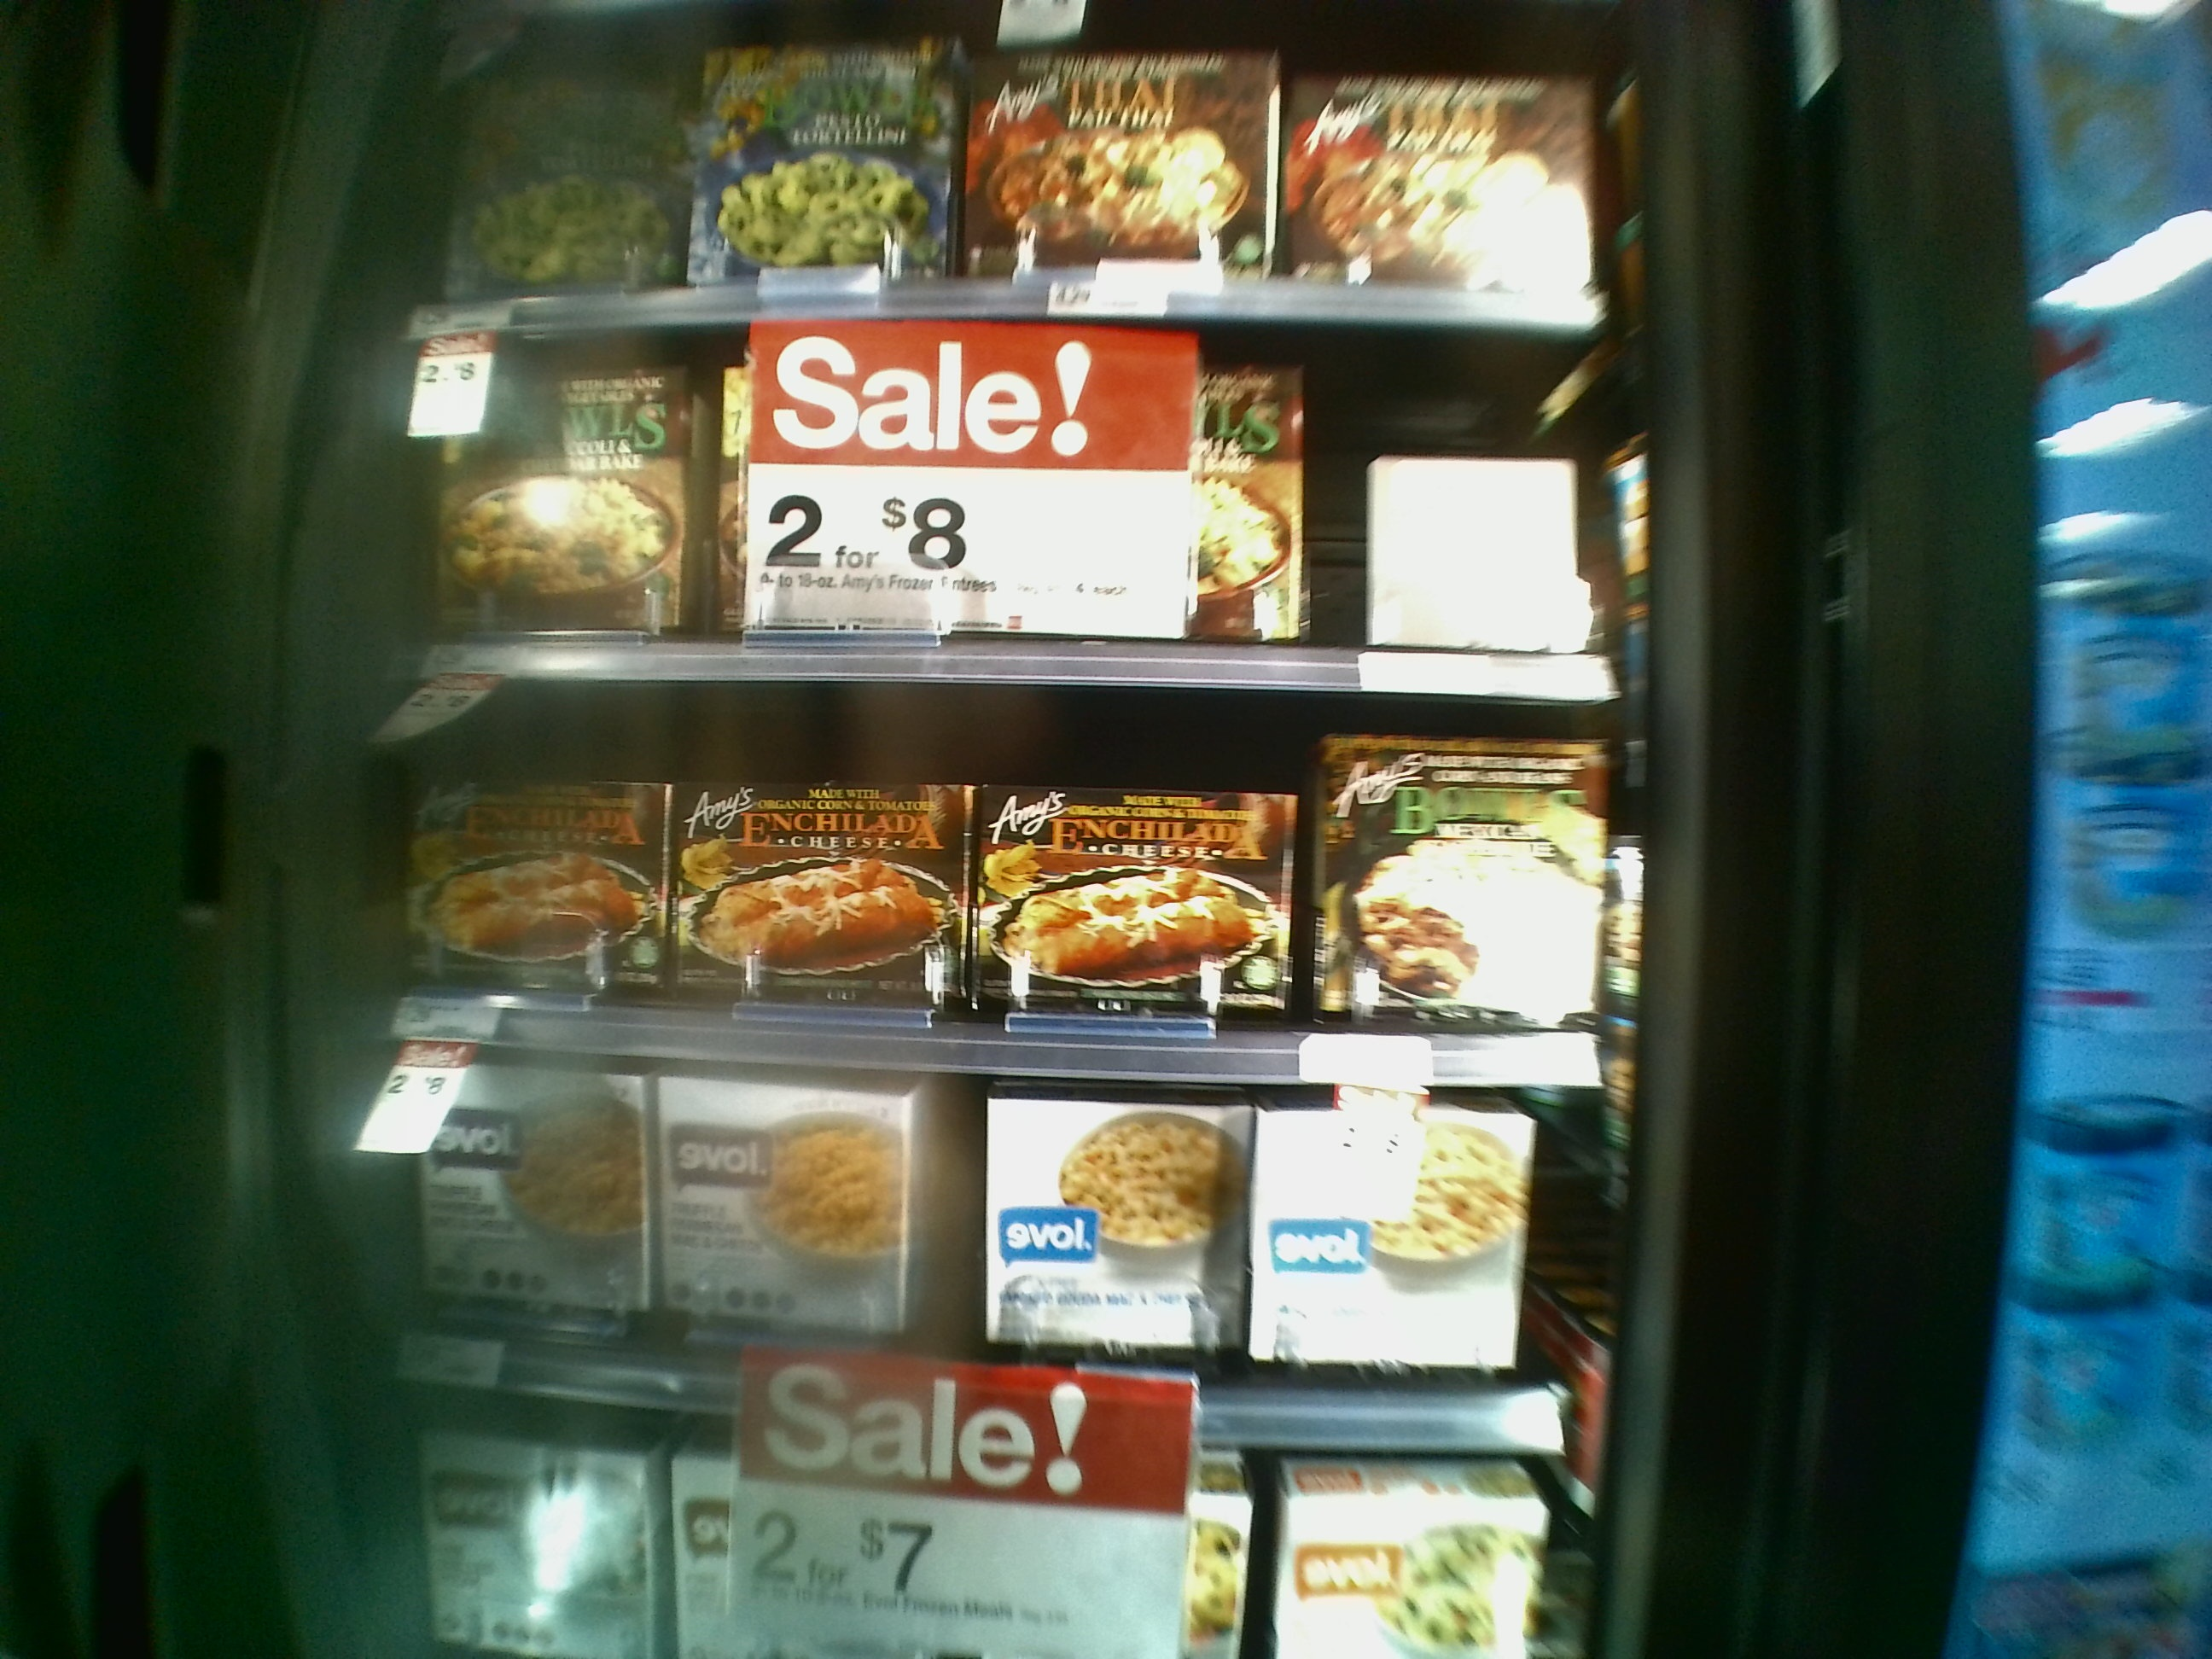shelf: (387, 1063, 1599, 1457), (408, 694, 1599, 1079), (408, 338, 1620, 699), (409, 10, 1618, 324)
